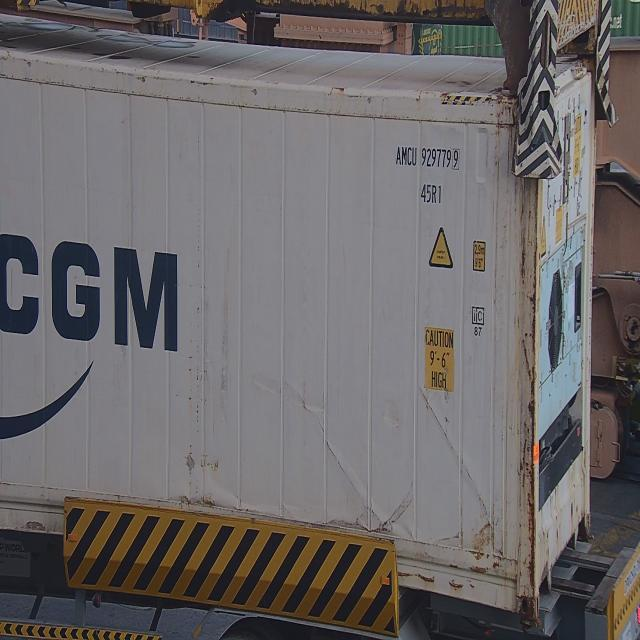rust: (512, 341, 544, 595)
